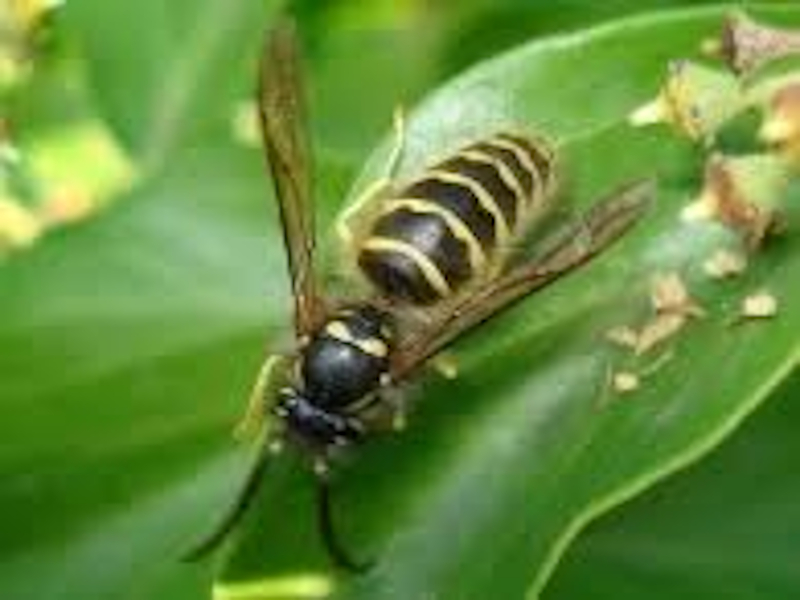chax: (174, 13, 648, 574)
